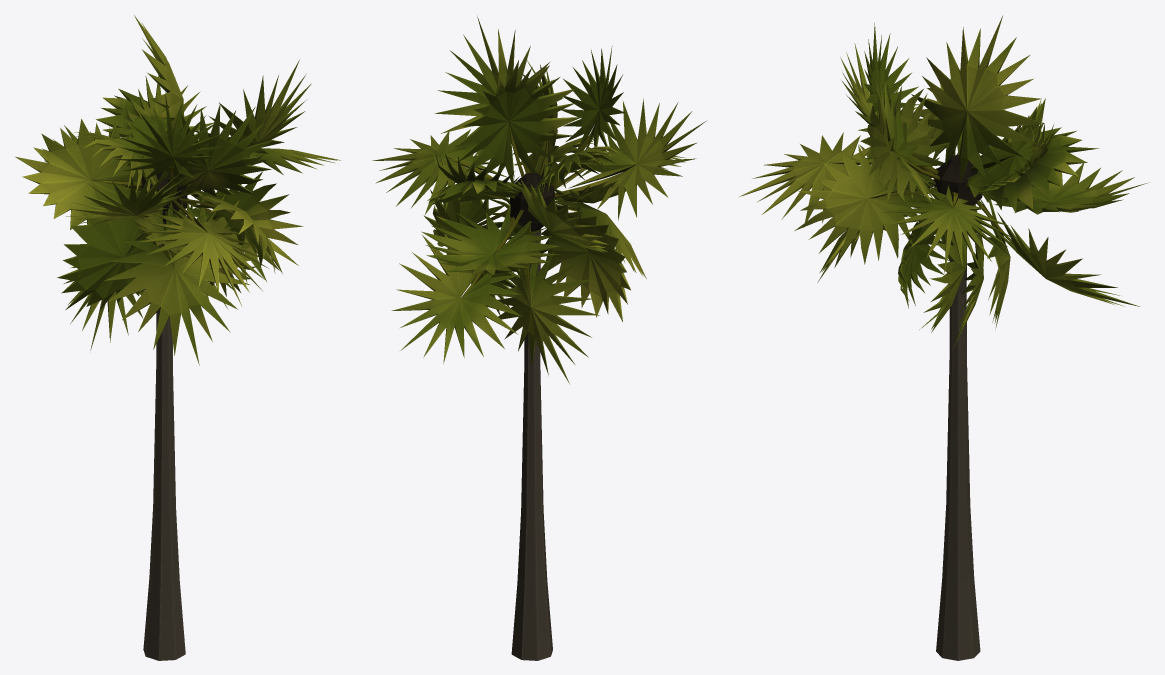
File: PalmyraPalmTree.gltf
3 views of the same model, side by side, from view 1: azimuth 30°, elevation 25°; view 2: azimuth 150°, elevation 25°; view 3: azimuth 270°, elevation 25° (orthographic). The views are drawn at different scales.
Parts seen in each view (by area): view 1: node-0; view 2: node-0; view 3: node-0.
Part boxes in pixels (bbox=[...]): node-0: bbox=[15, 15, 340, 660]; node-0: bbox=[372, 16, 705, 660]; node-0: bbox=[739, 16, 1148, 660].
Size of the model in its own units: 15.95 by 31.38 by 18.6.
1 material, 1 textured.
